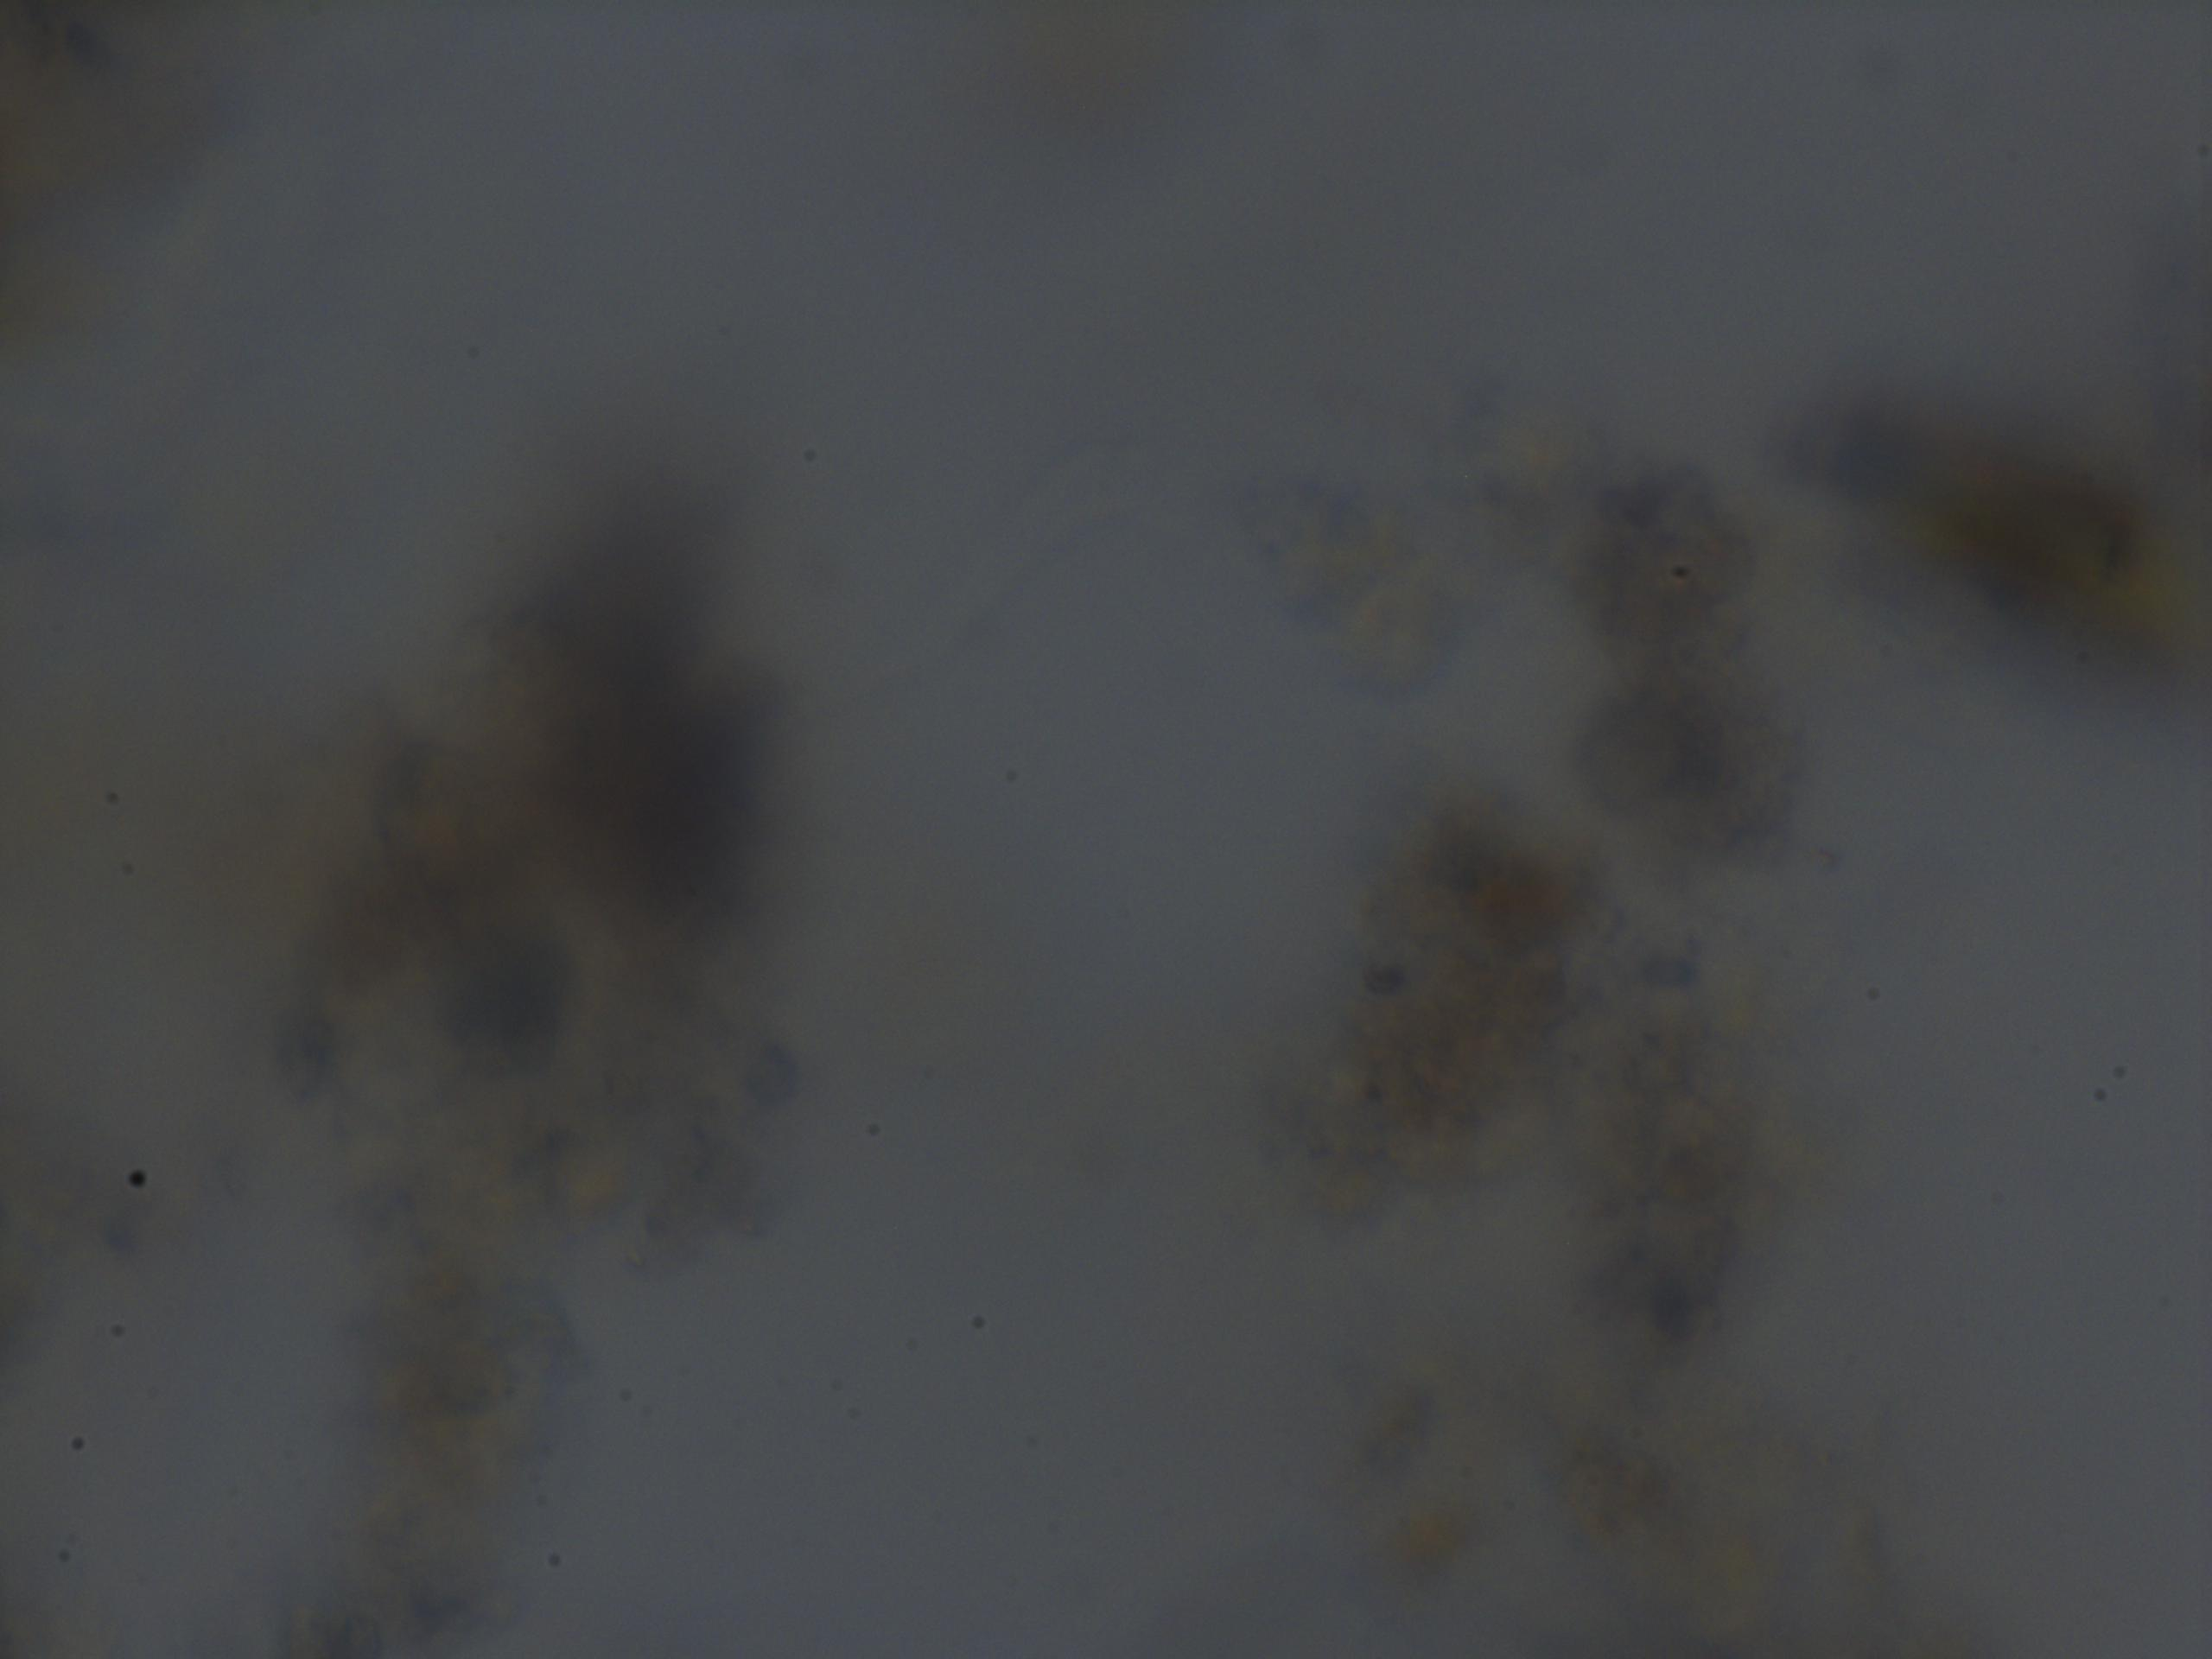open_floc: (1169, 364, 1827, 1368)
